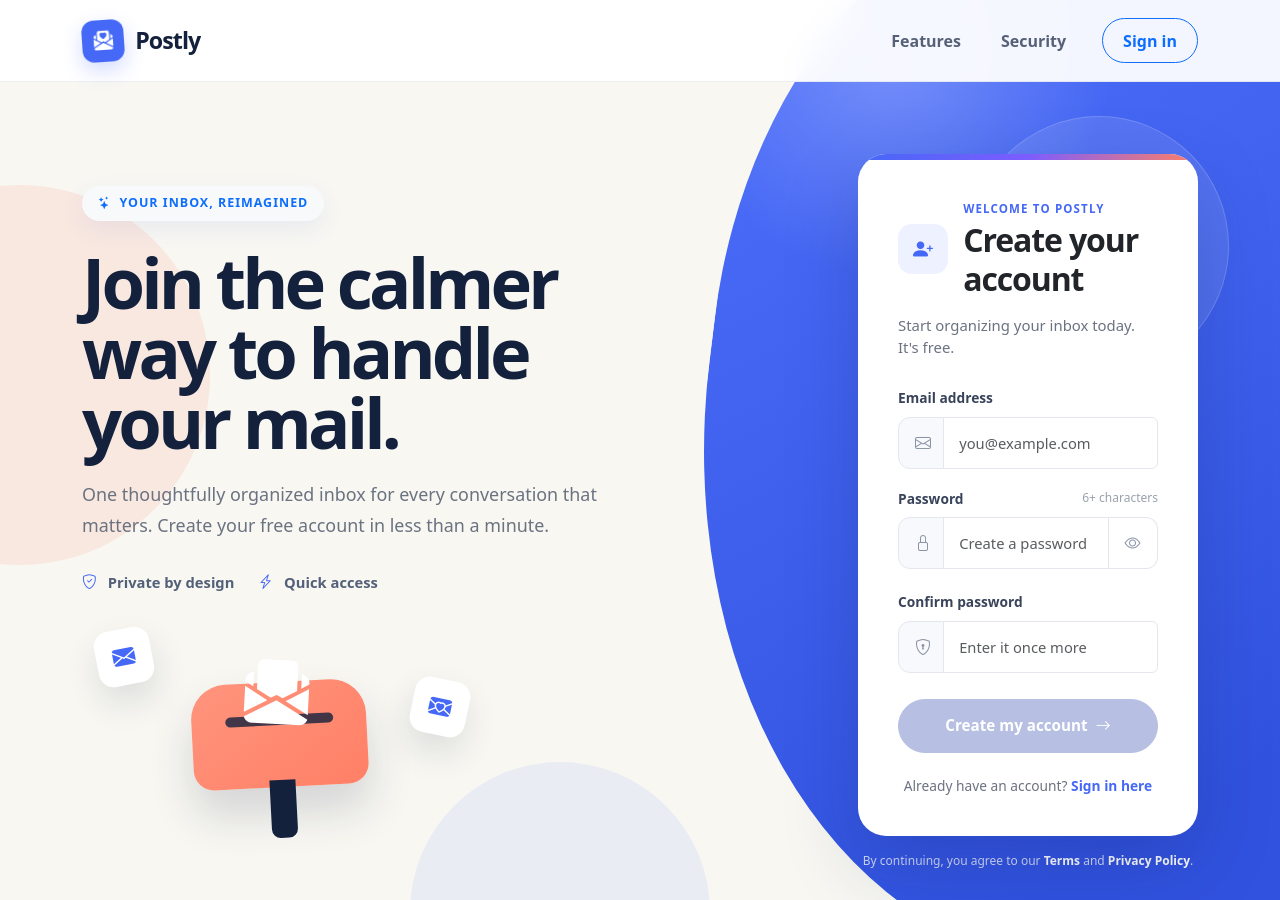
Scenario: Signup component › creates the Firebase user, logs success, and shows the success state
The width and height of the screenshot is (1280, 900).
Type "  person@example.com  " into the field labelled "Email address" at (1050, 443), box [943, 417, 1158, 469]
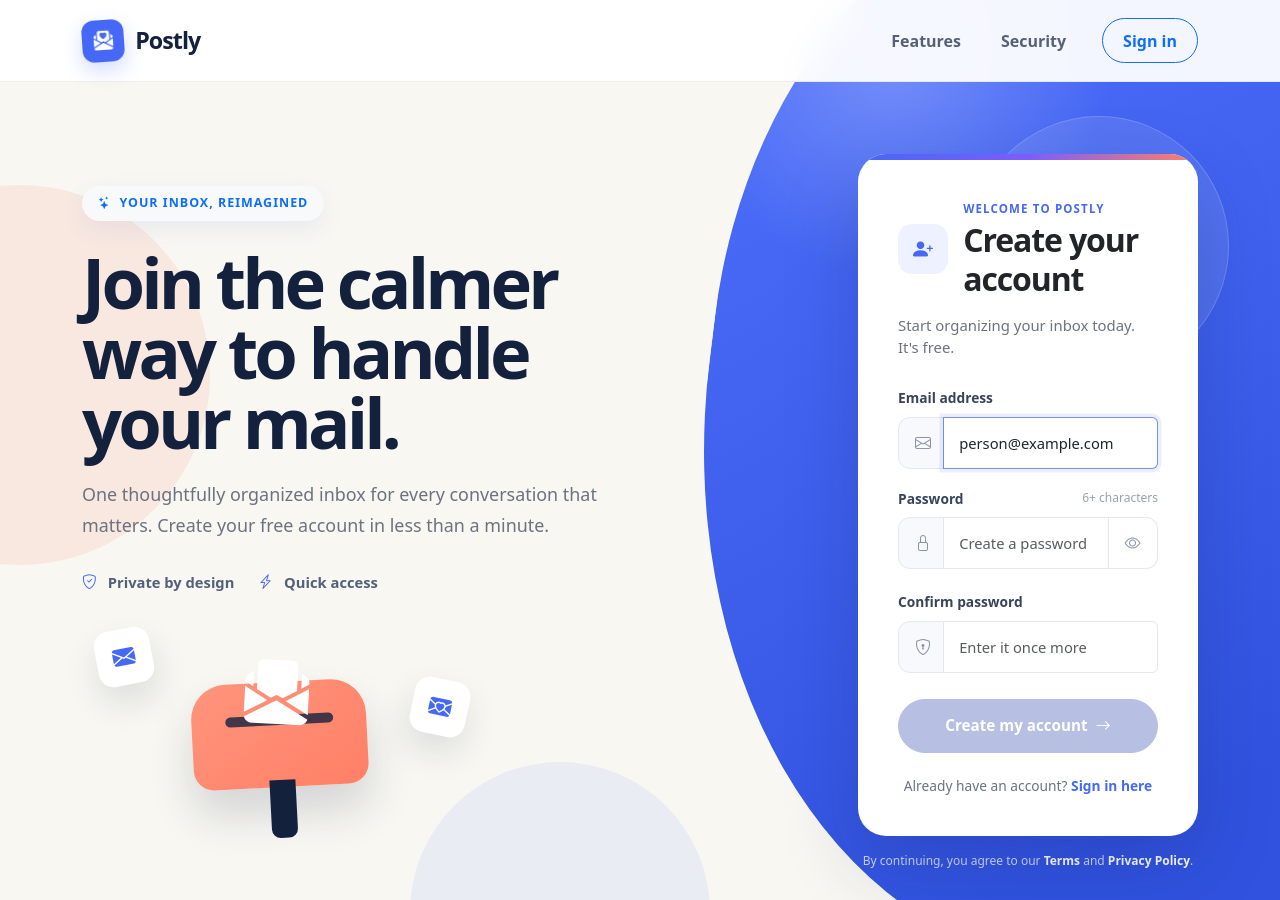
Type "secret123" into the password field labelled "Password" at (1026, 543), box [943, 517, 1109, 569]
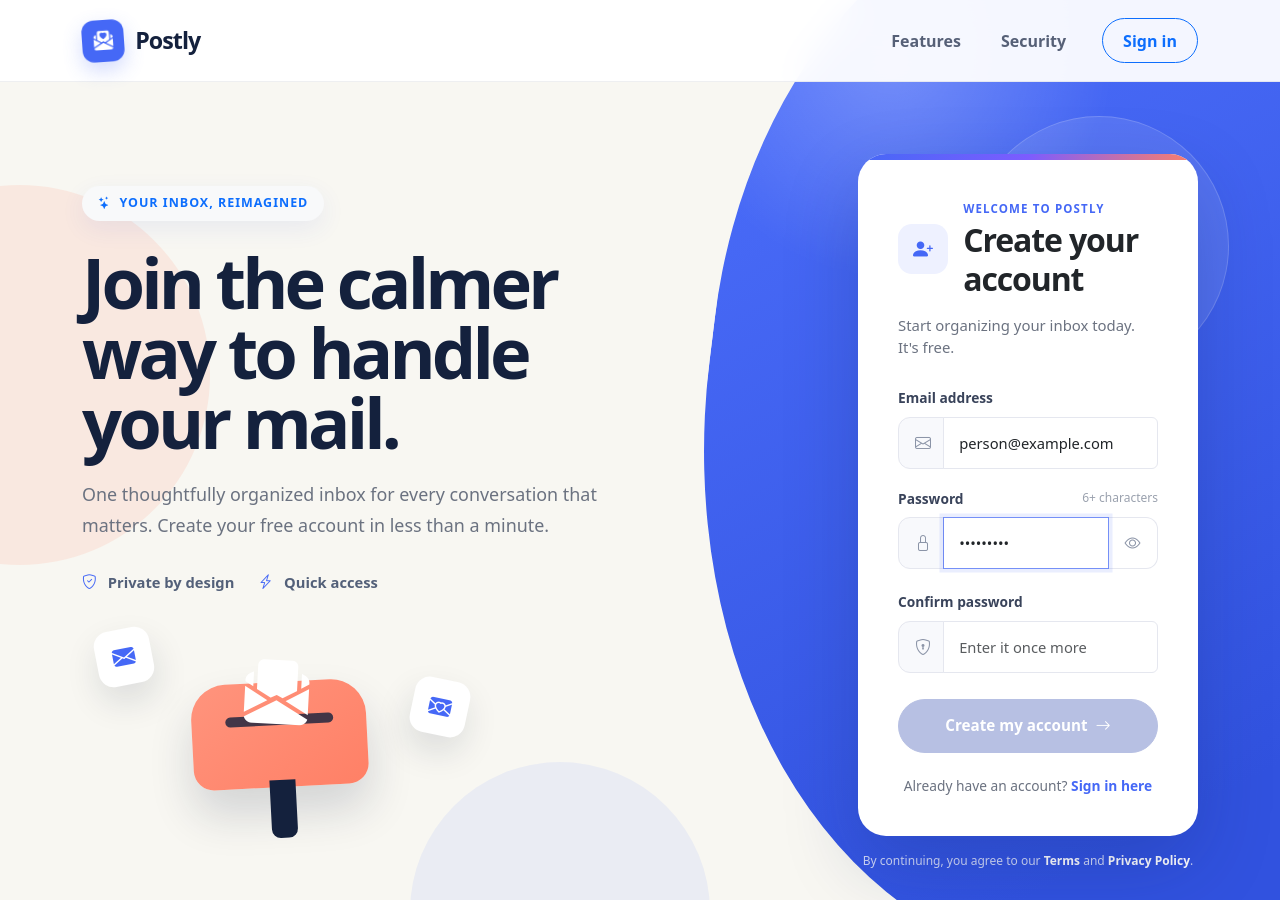
Type "secret123" into the password field labelled "Confirm password" at (1050, 647), box [943, 621, 1158, 673]
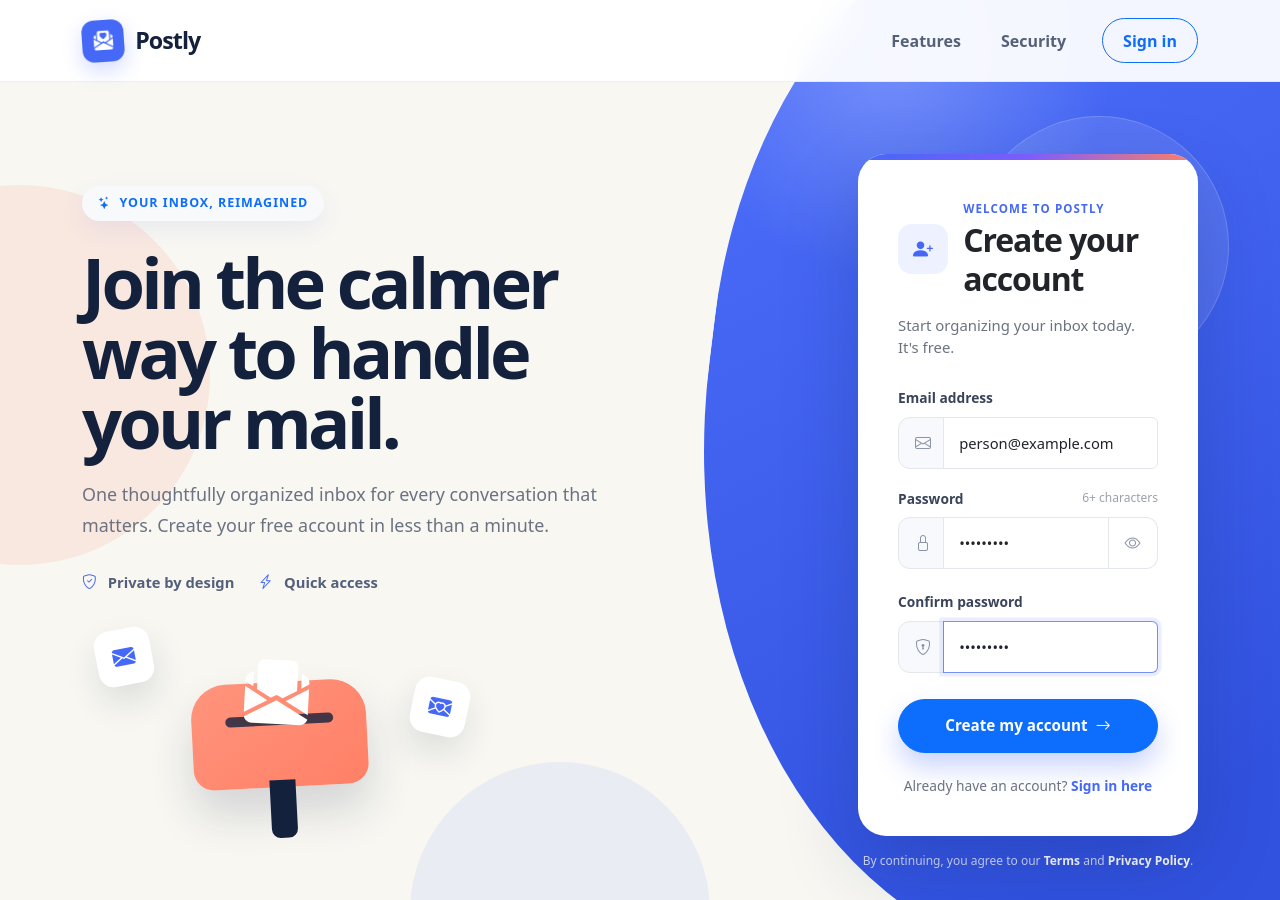
Click the button "Create my account" at (1028, 726), box [898, 699, 1158, 753]
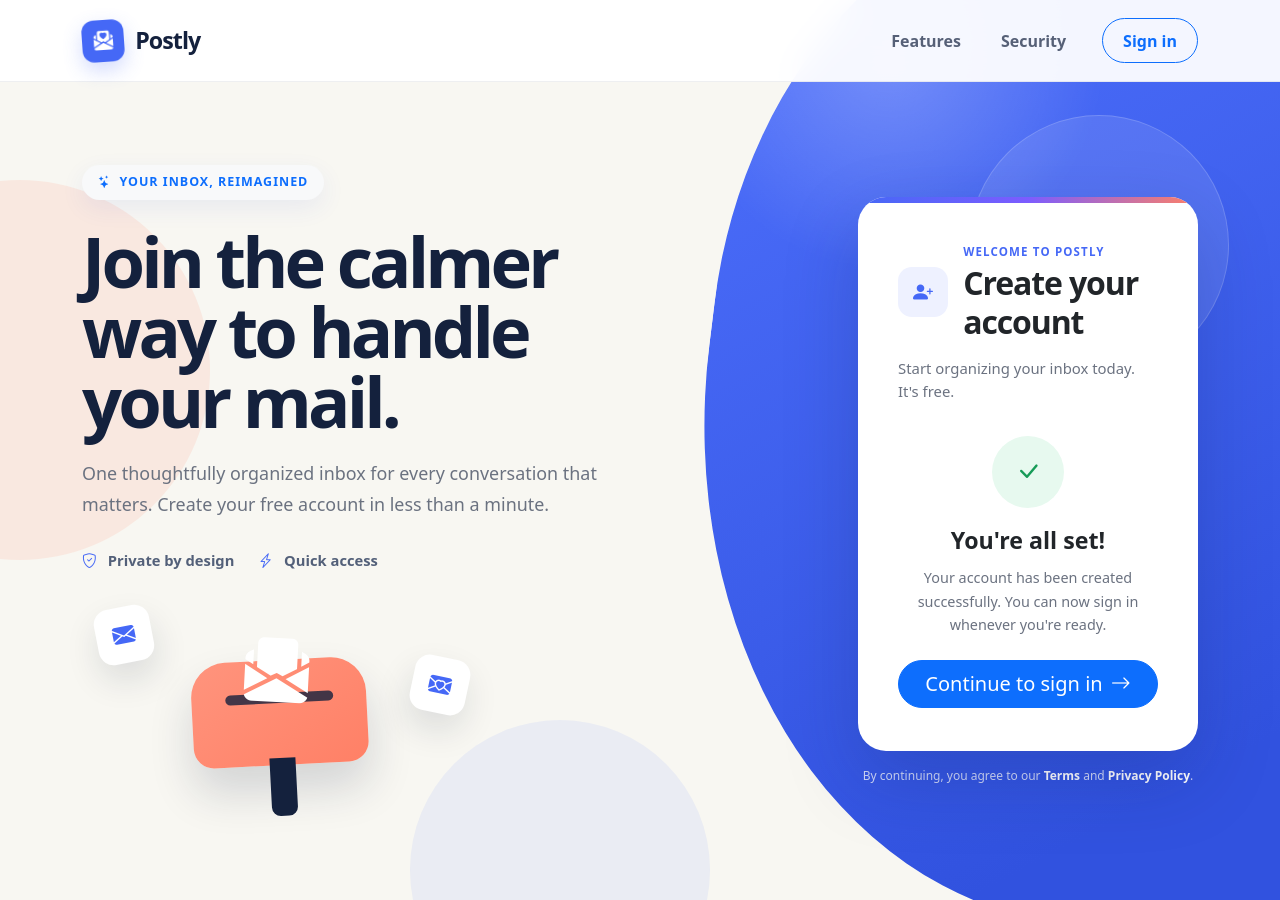
Result: the heading "You're all set!" is shown at [951, 524, 1105, 556]
